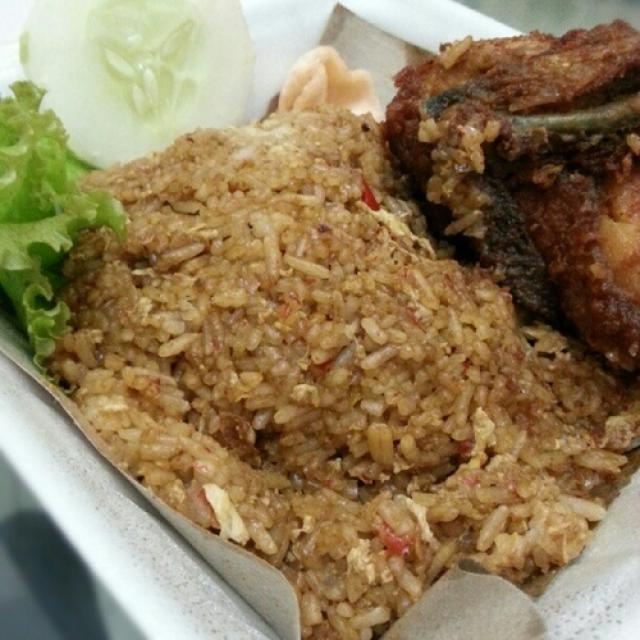米饭主食: (29, 37, 617, 634)
